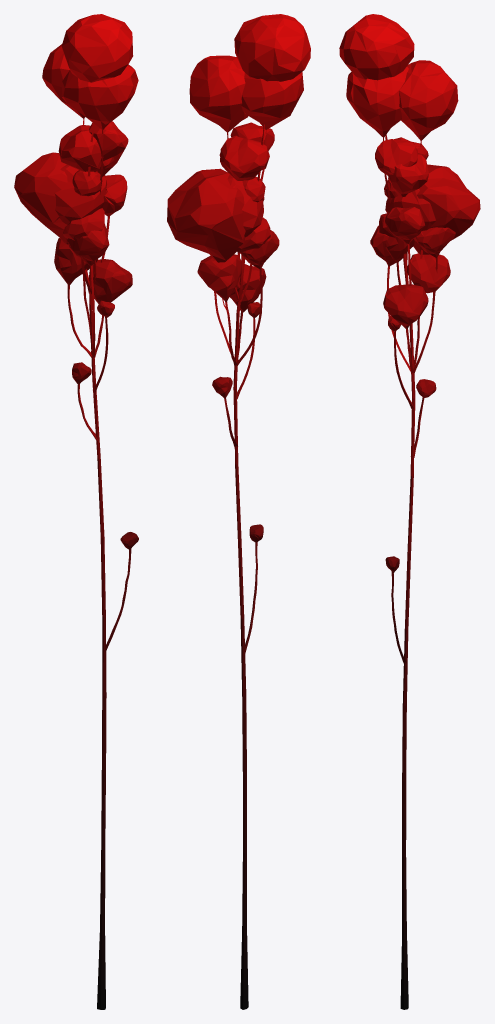
The model's file is TreeBirchTall06.fbx.
3 renders of one model, left to right at view 1: azimuth 90°, elevation 25°; view 2: azimuth 150°, elevation 25°; view 3: azimuth 330°, elevation 25°, orthographic. The views are drawn at different scales.
Visible parts, largest first — view 1: TreeBirchTall06_LOD0; view 2: TreeBirchTall06_LOD0; view 3: TreeBirchTall06_LOD0.
Part boxes in pixels (<box>): TreeBirchTall06_LOD0: <box>14,14,138,1009</box>; TreeBirchTall06_LOD0: <box>167,14,310,1009</box>; TreeBirchTall06_LOD0: <box>339,14,480,1009</box>.
Size of what is drawn, in the model's own units: 459 by 3823 by 429.
